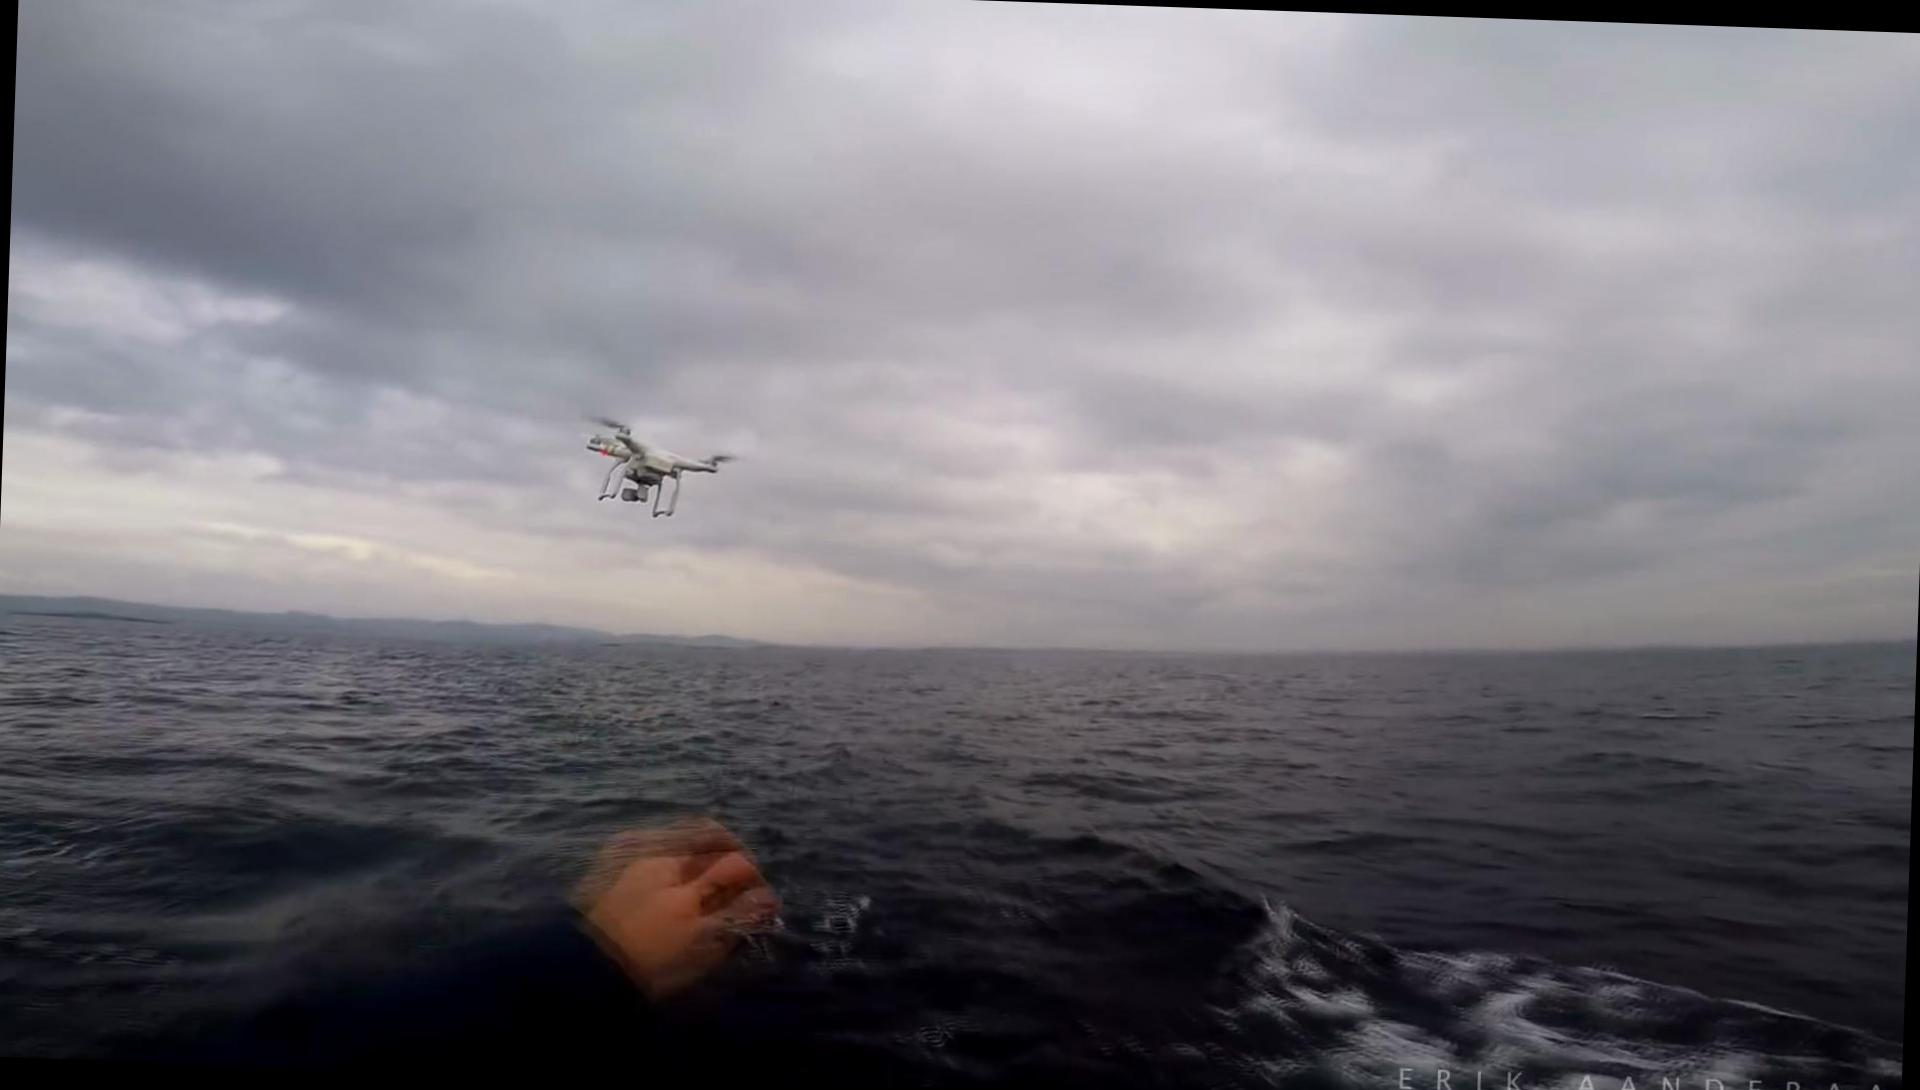drone: (571, 409, 741, 526)
